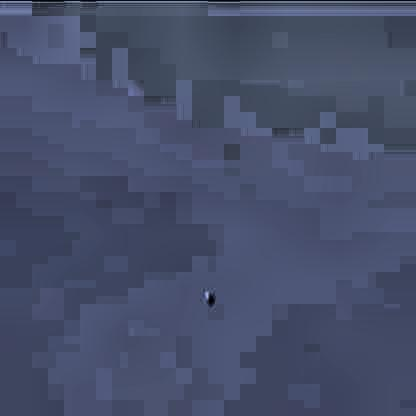golfball: (200, 288, 213, 301)
